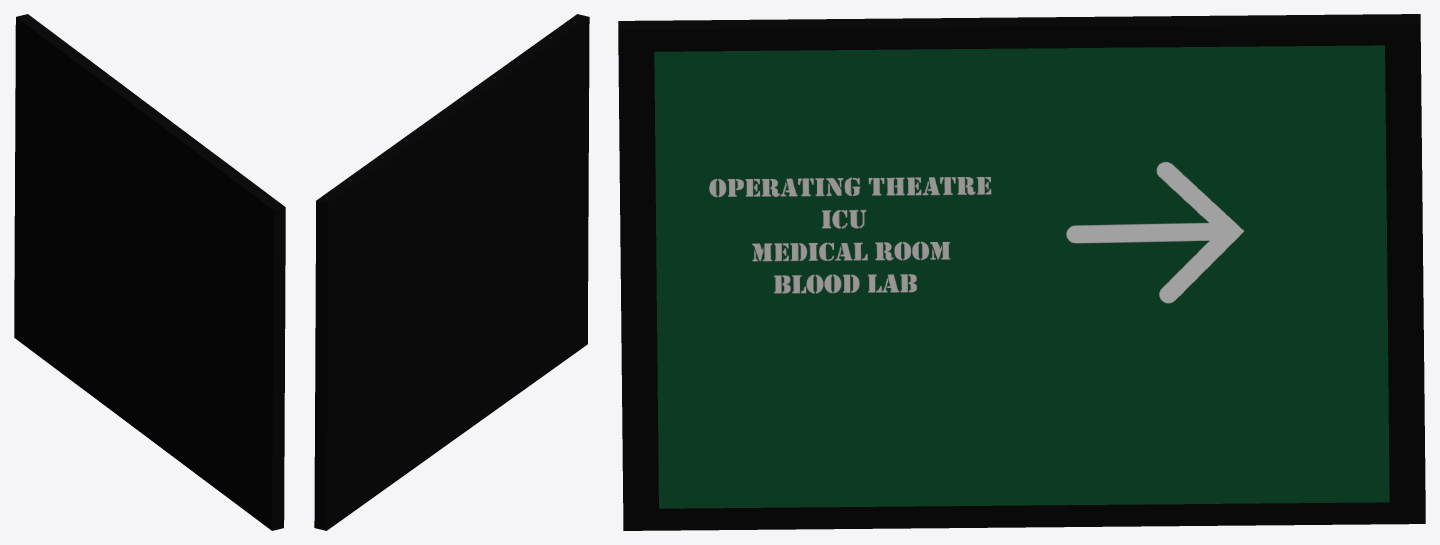
File: signboard 2 .fbx
3 renders of one model, left to right at view 1: azimuth 30°, elevation 25°; view 2: azimuth 150°, elevation 25°; view 3: azimuth 270°, elevation 25°, orthographic. The views are drawn at different scales.
Visible parts, largest first — view 1: Cube.001; view 2: Cube.001; view 3: Cube.001.
Part boxes in pixels (x1,y1,x2,y2): Cube.001: (14, 14, 285, 530); Cube.001: (314, 14, 589, 530); Cube.001: (618, 14, 1425, 530).
Size of the model in its own units: 17.62 by 457 by 658.
Materials: 2 (1 with a texture image).
